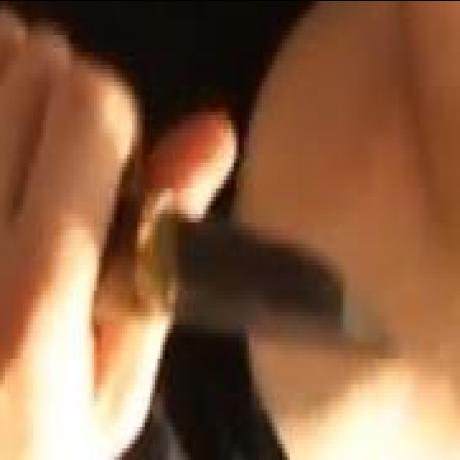weapon: (121, 187, 413, 378)
